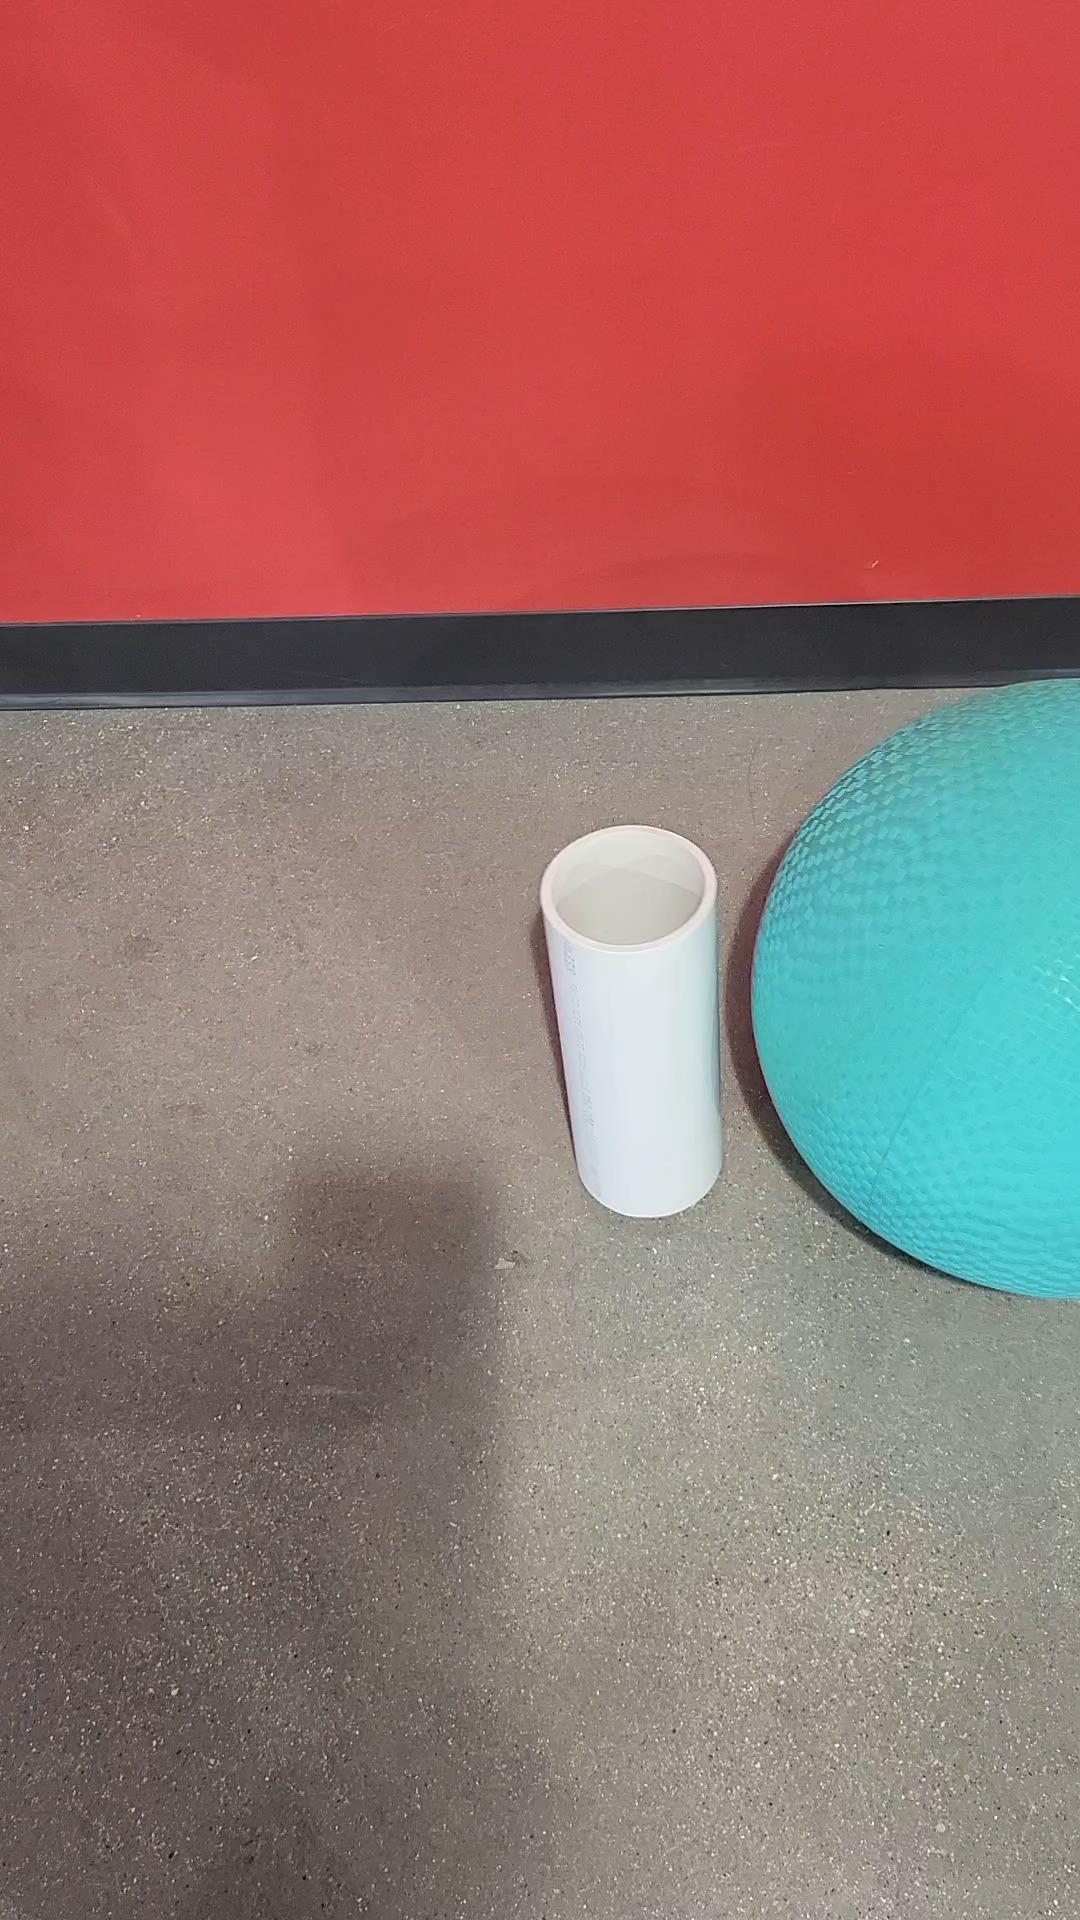algae: (741, 670, 1079, 1305)
coral: (543, 823, 728, 1222)
